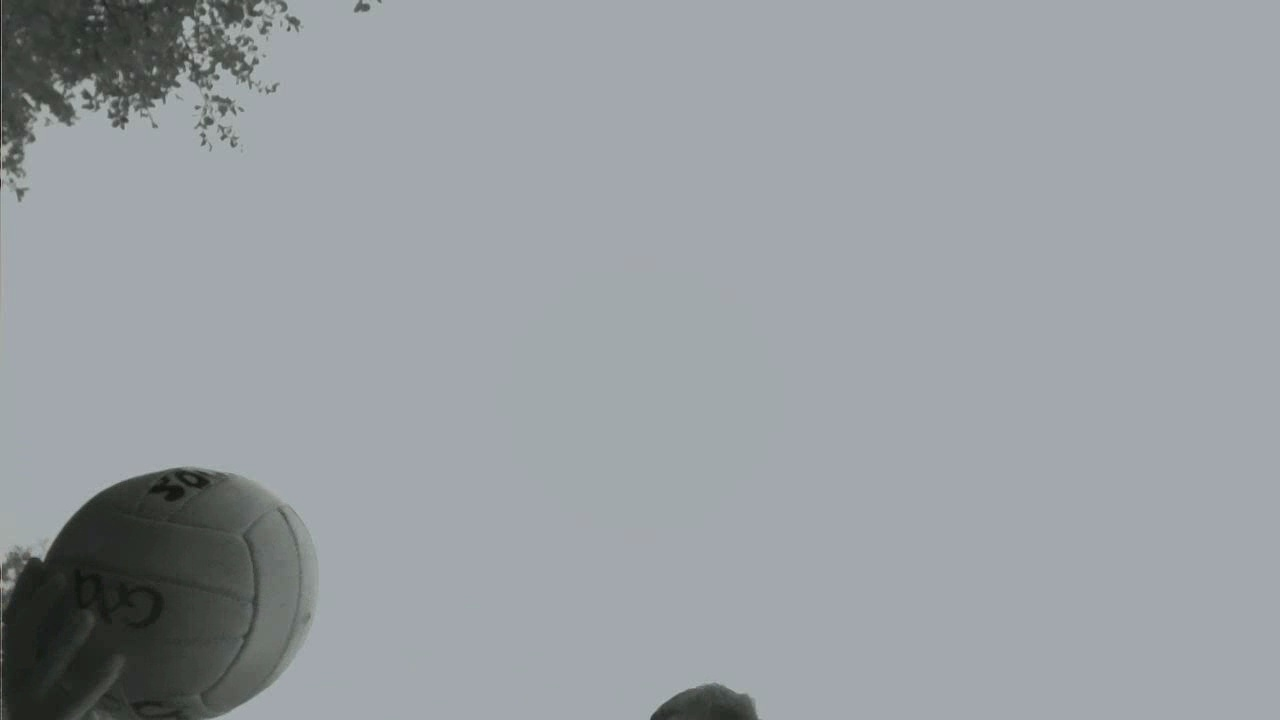Football-Spotter: (45, 467, 318, 719)
